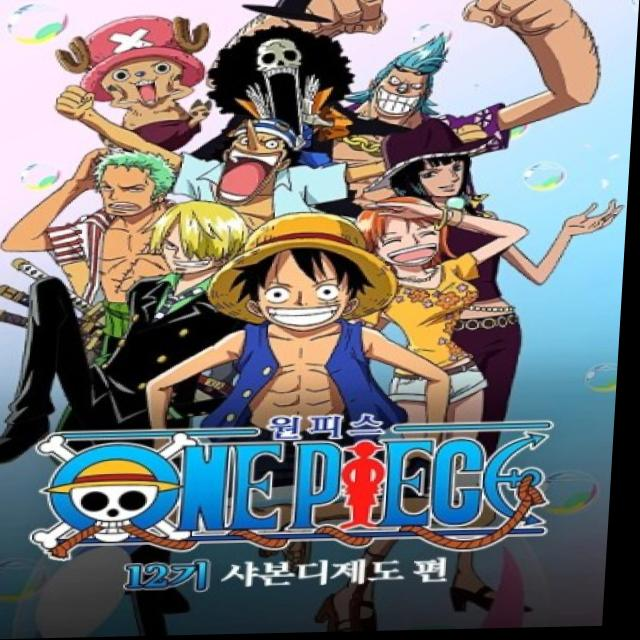Blook: (213, 28, 362, 155)
Chyopa: (62, 6, 222, 156)
Franky: (354, 27, 460, 130)
Luffy: (216, 212, 386, 344)
Nami: (358, 189, 458, 274)
NicoRobin: (365, 126, 521, 210)
Sangdi: (141, 192, 281, 278)
Usopp: (195, 114, 313, 218)
Zoro: (81, 142, 185, 228)
